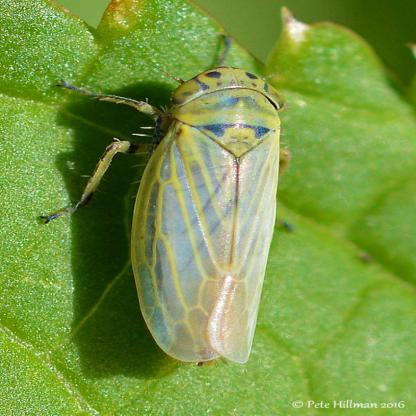Green-Leafhopper: (44, 30, 297, 369)
